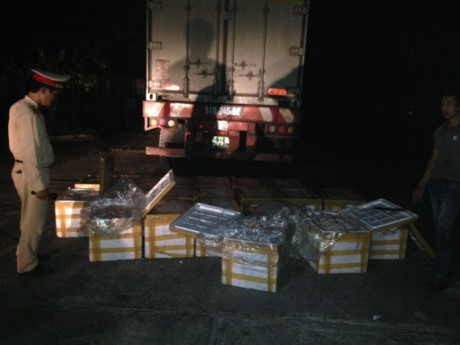police: (5, 64, 81, 283)
